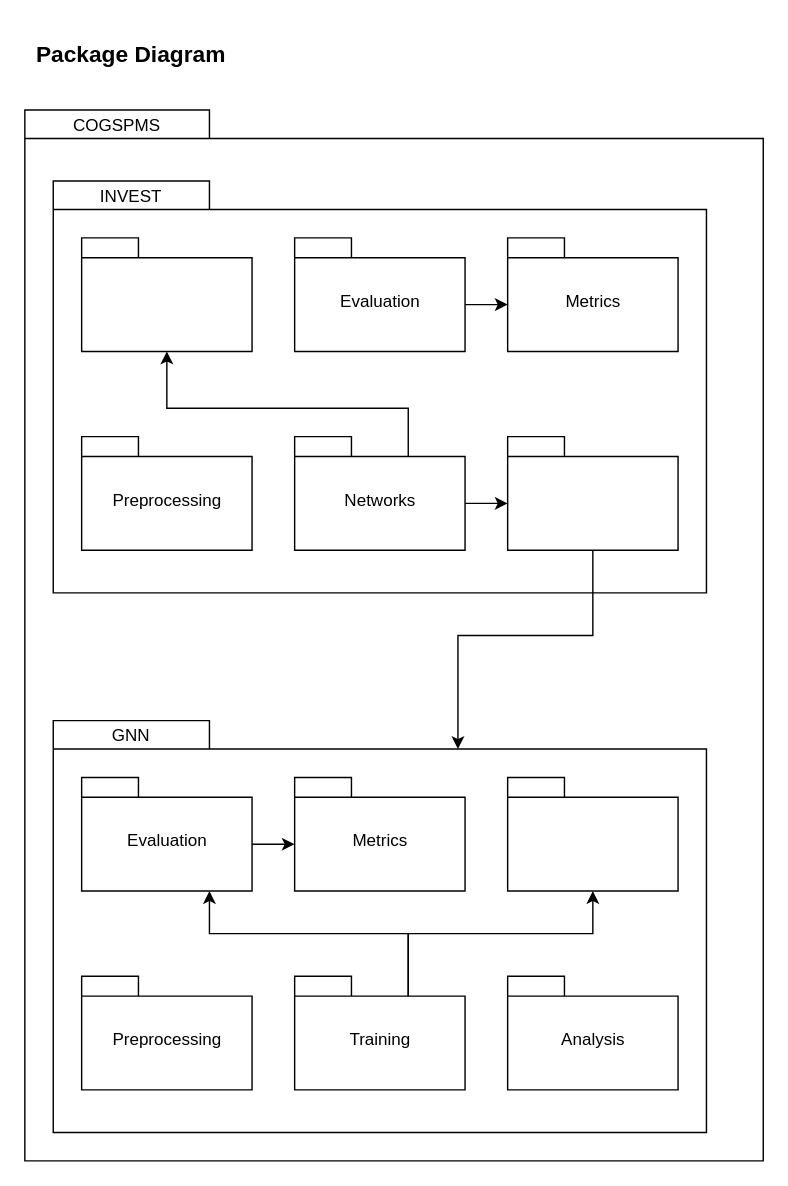
Some shapes in this 788 by 1186 pixel diagram are drawn without their labels. Here are the shapes that lost their labels. From the top down, the box of each, then its label:
(80, 236, 252, 351): Calculator
(506, 435, 678, 550): Prediction
(506, 776, 678, 891): Models
